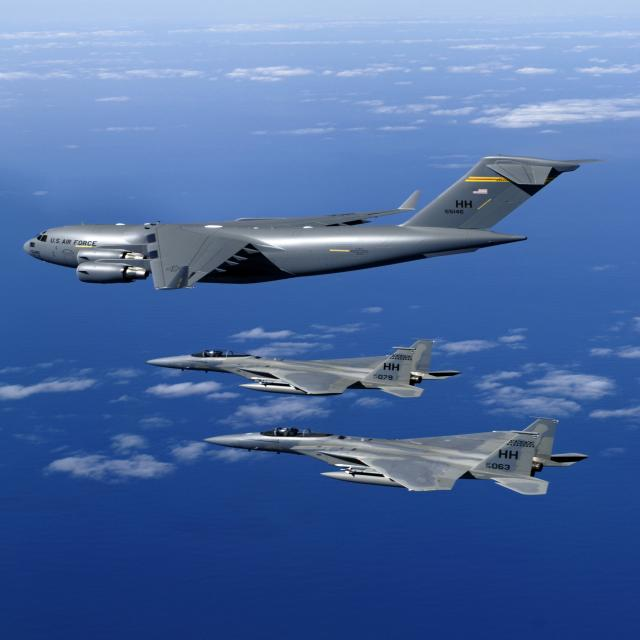MIL_Plane: (23, 153, 610, 290), (201, 416, 589, 495), (143, 338, 462, 398)
